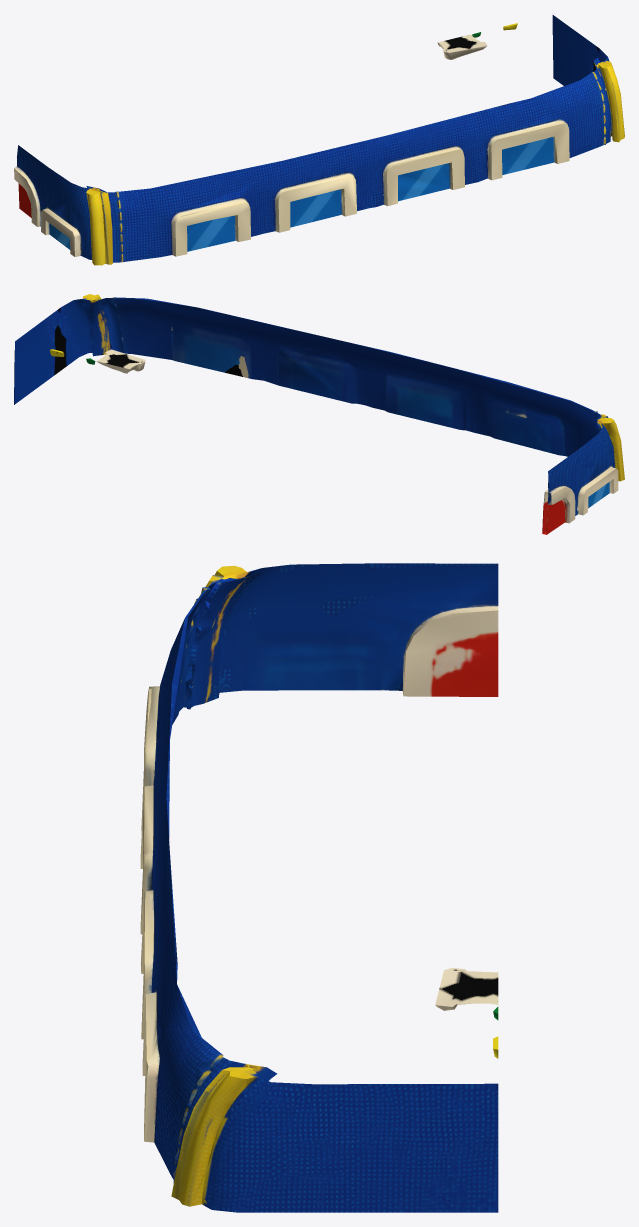
Rendered from 5-upper-walls-front.fbx.
3 views of the same model, one above another, from view 1: azimuth 30°, elevation 25°; view 2: azimuth 150°, elevation 25°; view 3: azimuth 270°, elevation 25° (orthographic). The views are drawn at different scales.
Visible parts, largest first — view 1: upper-walls-front; view 2: upper-walls-front; view 3: upper-walls-front.
Boxes of the visible parts, x1=… form: upper-walls-front: x1=14, y1=15, x2=624, y2=265; upper-walls-front: x1=14, y1=294, x2=624, y2=534; upper-walls-front: x1=140, y1=563, x2=498, y2=1212.
Size of the model in its own units: 13380 by 1511 by 3832.
Materials: 1 (1 with a texture image).
